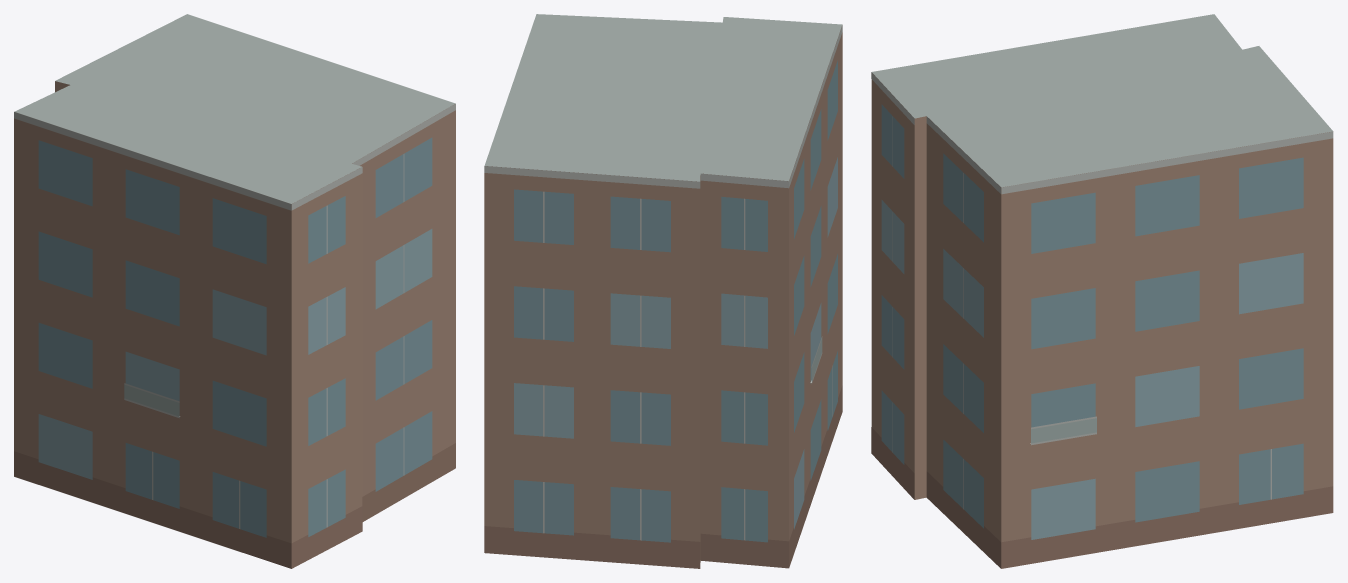
File: survey-upis-32508298.glb
3 renders of one model, left to right at view 1: azimuth 30°, elevation 25°; view 2: azimuth 150°, elevation 25°; view 3: azimuth 270°, elevation 25°, orthographic. The views are drawn at different scales.
Visible parts, largest first — view 1: survey-upis-32508298.tmp; view 2: survey-upis-32508298.tmp; view 3: survey-upis-32508298.tmp.
Part boxes in pixels (x1,y1,x2,y2): survey-upis-32508298.tmp: [14, 14, 455, 568]; survey-upis-32508298.tmp: [484, 14, 842, 568]; survey-upis-32508298.tmp: [871, 14, 1333, 568].
Bounding box in the file's own units: 13.07 × 13.4 × 14.71.
